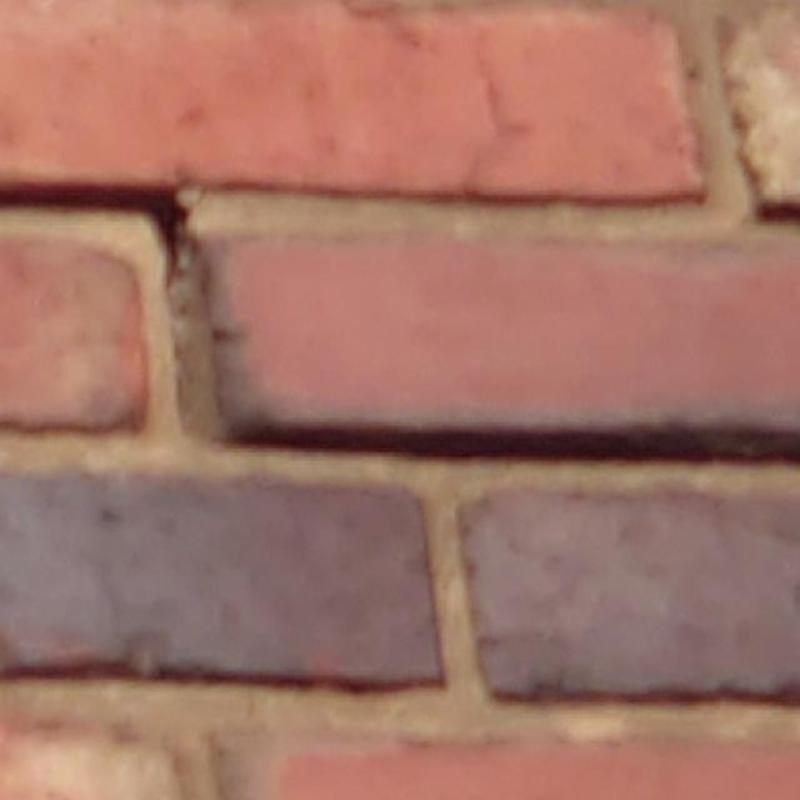crack: (212, 422, 800, 460), (0, 184, 185, 285)
